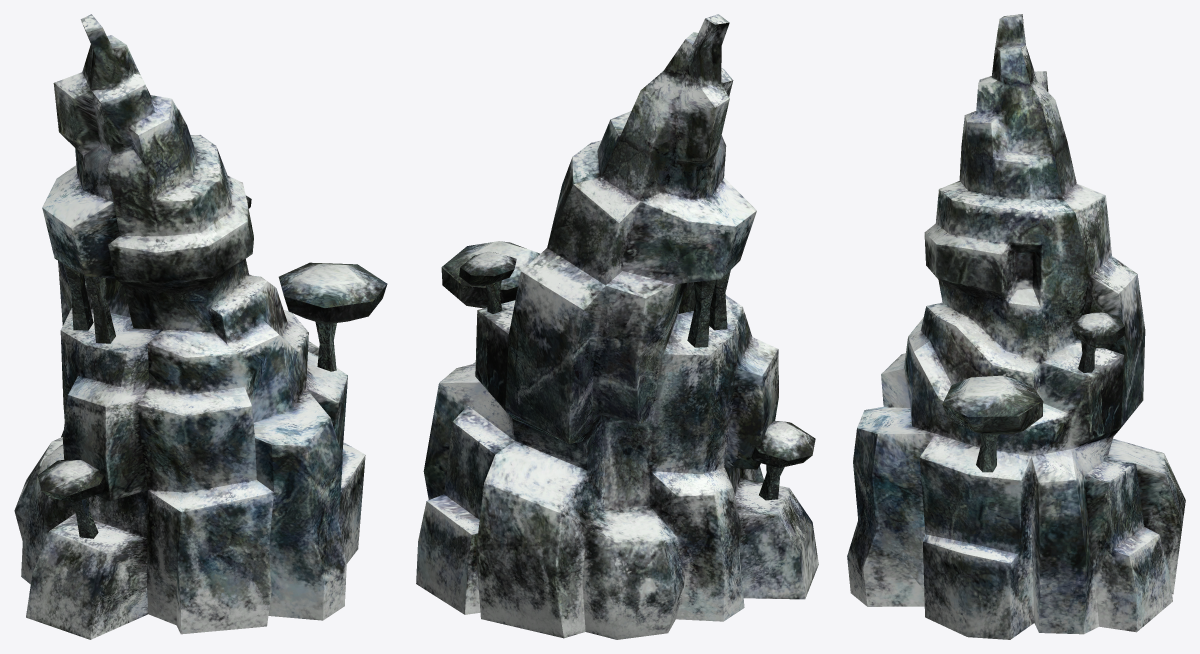
Rendered from northtundra_potal.glb.
The picture shows the model from 3 angles, left to right: view 1: azimuth 30°, elevation 25°; view 2: azimuth 150°, elevation 25°; view 3: azimuth 270°, elevation 25°; orthographic projection. The views are drawn at different scales.
Visible parts, largest first — view 1: northtundra_potal; view 2: northtundra_potal; view 3: northtundra_potal.
Boxes of the visible parts, box(x1,y1,x2,y2) form: northtundra_potal: box(14, 14, 387, 639); northtundra_potal: box(416, 14, 818, 639); northtundra_potal: box(847, 14, 1185, 639).
Size of the model in its own units: 12.91 by 20.19 by 11.98.
Materials: 1 (1 with a texture image).
